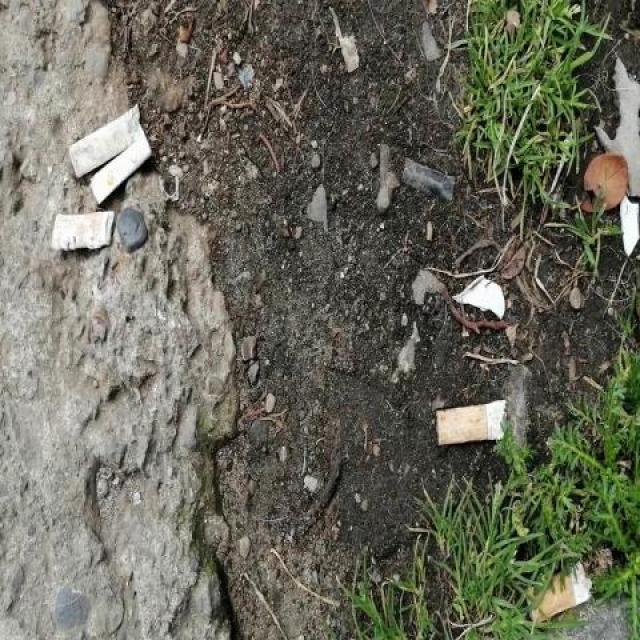non-organic waste: (65, 102, 143, 182), (525, 555, 595, 630), (87, 129, 154, 206), (432, 396, 511, 448), (47, 208, 117, 255)
